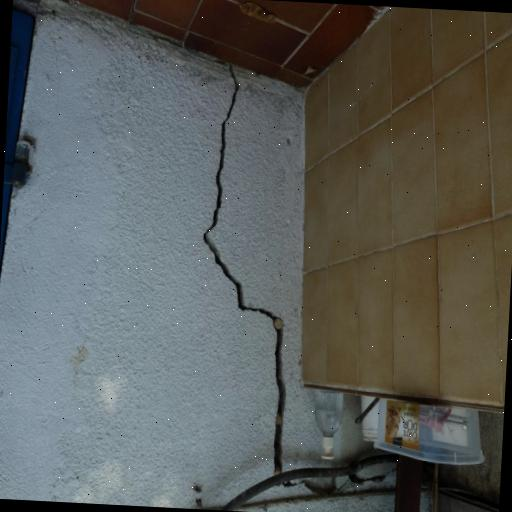spalling: (193, 70, 290, 468)
